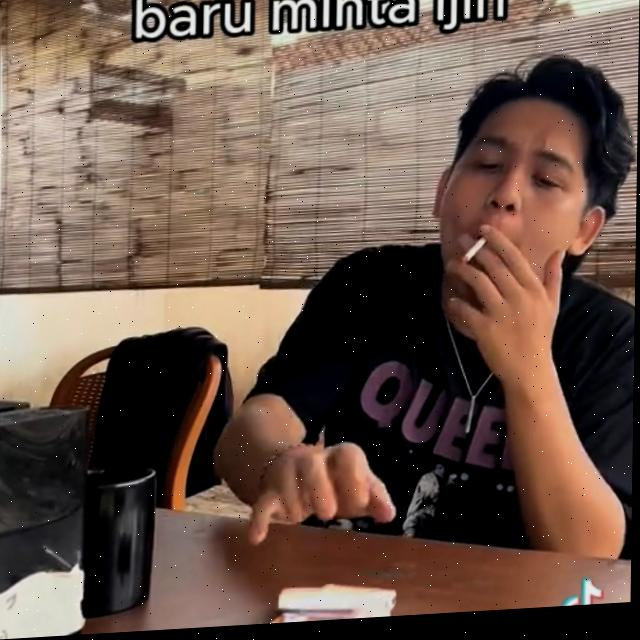cigarette: (462, 242, 488, 271)
